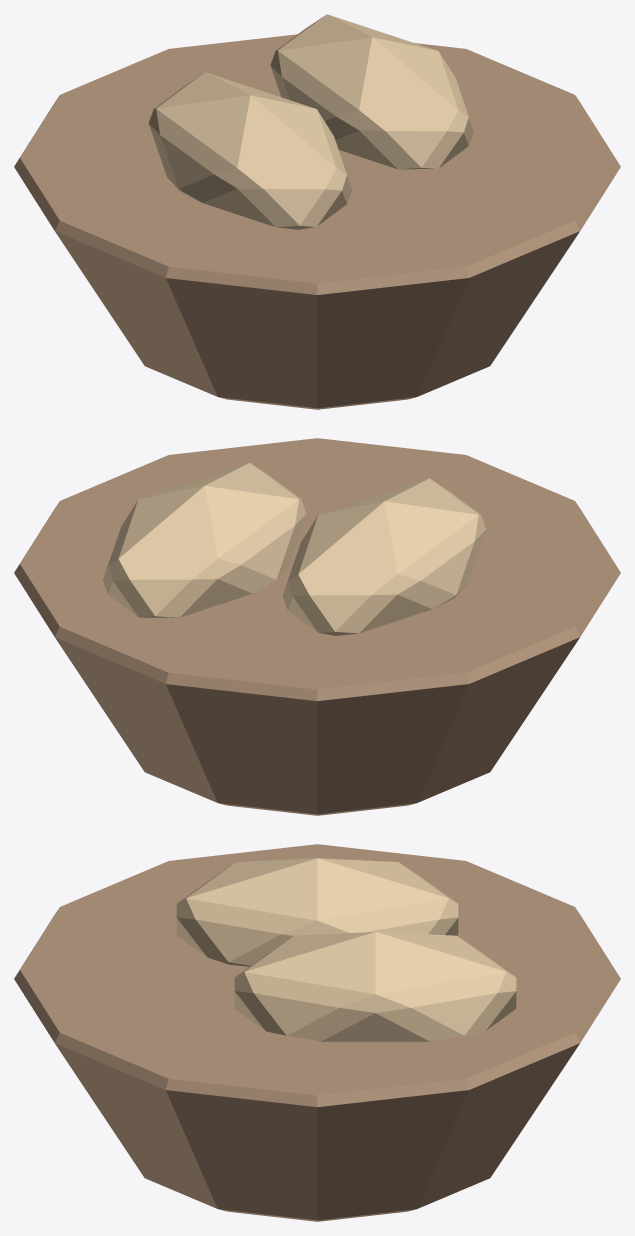
The model's file is SM_Bread_Basket.fbx.
3 views of the same model, one above another, from view 1: azimuth 30°, elevation 25°; view 2: azimuth 150°, elevation 25°; view 3: azimuth 270°, elevation 25° (orthographic).
Parts seen in each view (by area): view 1: Bread_Basket; view 2: Bread_Basket; view 3: Bread_Basket.
Part boxes in pixels (<box>): Bread_Basket: <box>14,14,620,409</box>; Bread_Basket: <box>14,438,620,815</box>; Bread_Basket: <box>14,844,620,1221</box>.
Size of the model in its own units: 31.38 by 14.5 by 31.38.
